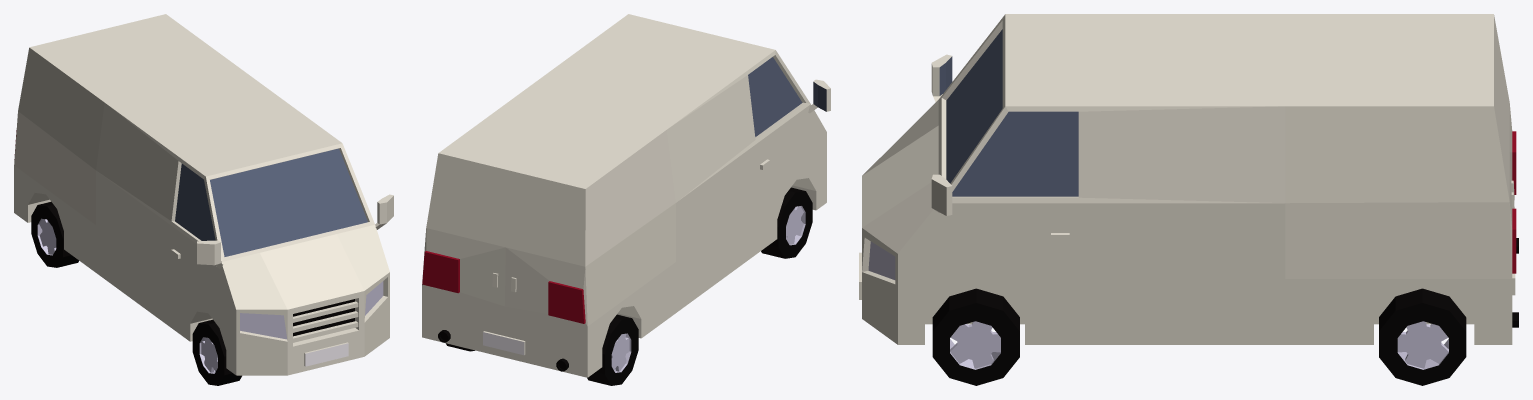
Rendered from van.glb.
3 renders of one model, left to right at view 1: azimuth 30°, elevation 25°; view 2: azimuth 150°, elevation 25°; view 3: azimuth 270°, elevation 25°, orthographic. The views are drawn at different scales.
Visible parts, largest first — view 1: body; view 2: body; view 3: body.
Part boxes in pixels (x1,y1,x2,y2): body: [14, 14, 393, 385]; body: [422, 14, 830, 385]; body: [859, 14, 1518, 385].
Bounding box in the file's own units: 2.81 × 2.71 × 5.91.
